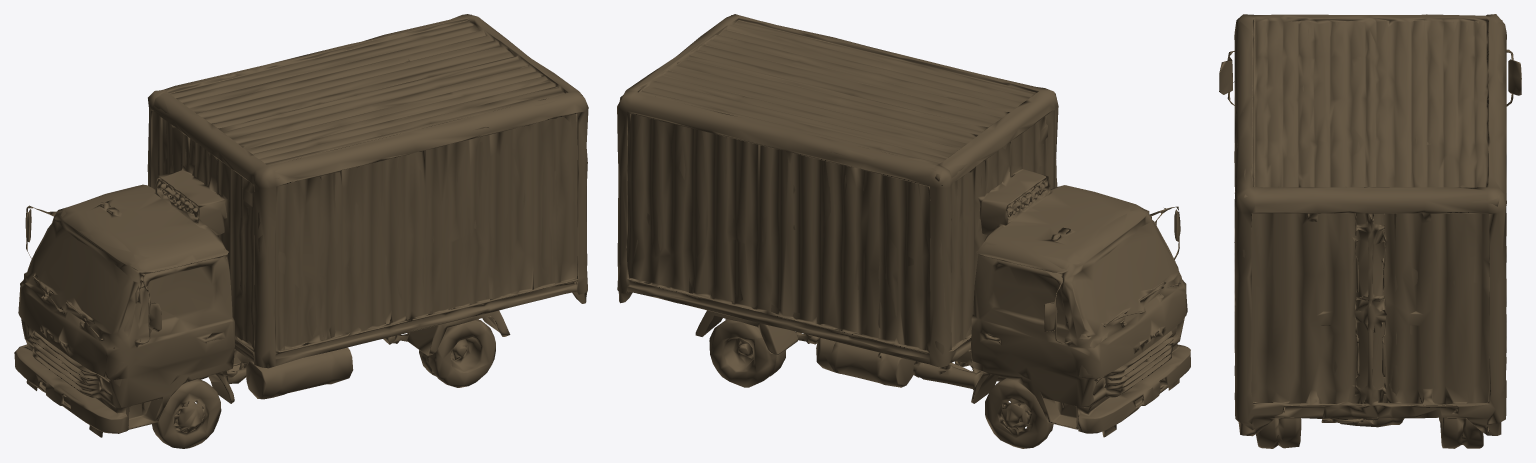
The model's file is car_delivery_light_q0.glb.
3 views of the same model, side by side, from view 1: azimuth 30°, elevation 25°; view 2: azimuth 150°, elevation 25°; view 3: azimuth 270°, elevation 25° (orthographic). The views are drawn at different scales.
Bounding box in the file's own units: 4.59 × 2.5 × 2.17.
Materials: 1 (1 with a texture image).
